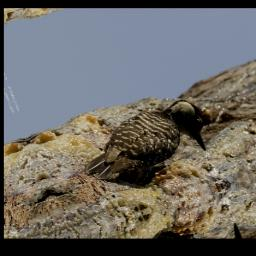Woodpecker: (67, 94, 222, 204)
